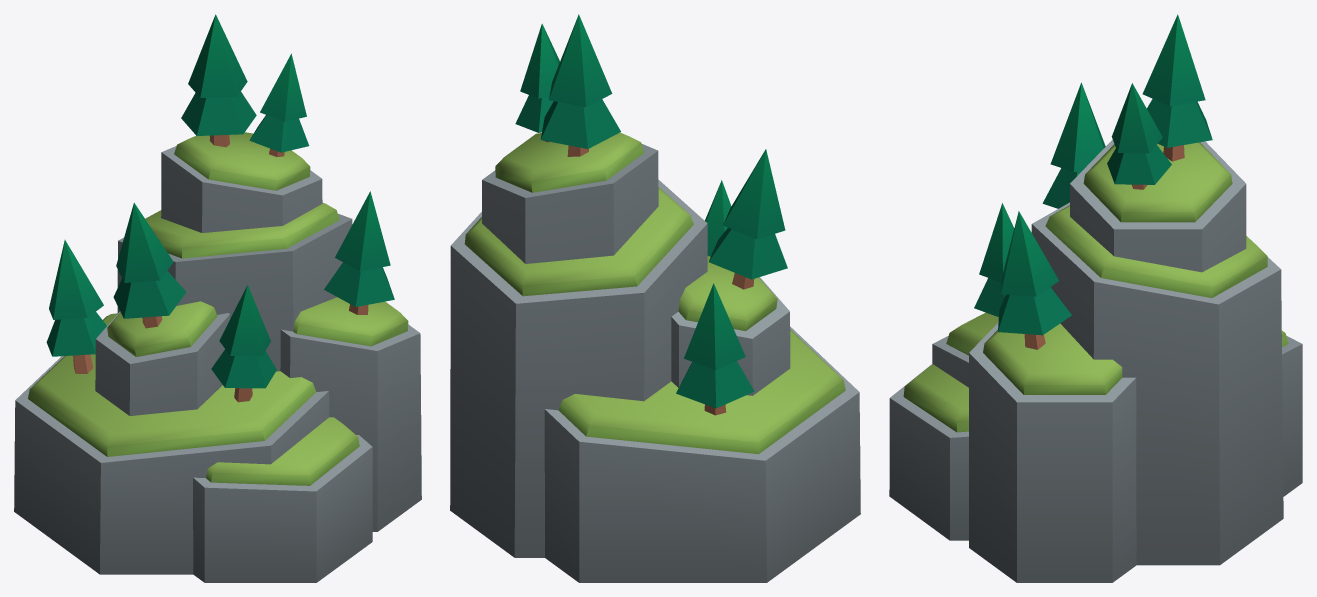
Rendered from mountain_B_grass_trees.glb.
The picture shows the model from 3 angles, left to right: view 1: azimuth 30°, elevation 25°; view 2: azimuth 150°, elevation 25°; view 3: azimuth 270°, elevation 25°; orthographic projection. The views are drawn at different scales.
Parts seen in each view (by area): view 1: mountain_B_grass_trees; view 2: mountain_B_grass_trees; view 3: mountain_B_grass_trees.
Boxes of the visible parts, box(x1,y1,x2,y2) form: mountain_B_grass_trees: box(14, 14, 421, 582); mountain_B_grass_trees: box(450, 14, 860, 582); mountain_B_grass_trees: box(889, 14, 1302, 582).
Size of the model in its own units: 1.8 by 2.5 by 1.88.
1 material, 1 textured.
